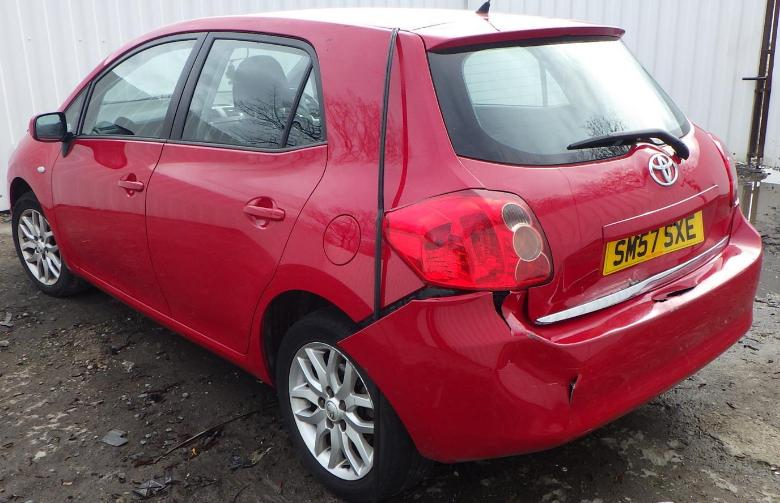Back-bumper: (337, 204, 763, 463)
Back-door: (146, 31, 327, 356)
Back-wheel: (276, 305, 437, 502)
Back-window: (182, 39, 310, 147), (285, 67, 322, 147)
Back-windshield: (428, 35, 689, 165)
Fender: (6, 129, 66, 255)
Front-door: (52, 32, 209, 316)
Front-wheel: (12, 190, 91, 297)
Front-window: (81, 40, 196, 138), (65, 82, 91, 135)
License-plate: (604, 210, 704, 276)
Mirror: (28, 112, 73, 157)
Quarter-panel: (247, 146, 485, 365)
Rocker-panel: (61, 253, 276, 388)
Roof: (182, 1, 578, 34)
Tail-light: (382, 189, 554, 291), (706, 132, 739, 207)
Trunk: (413, 18, 735, 325)
